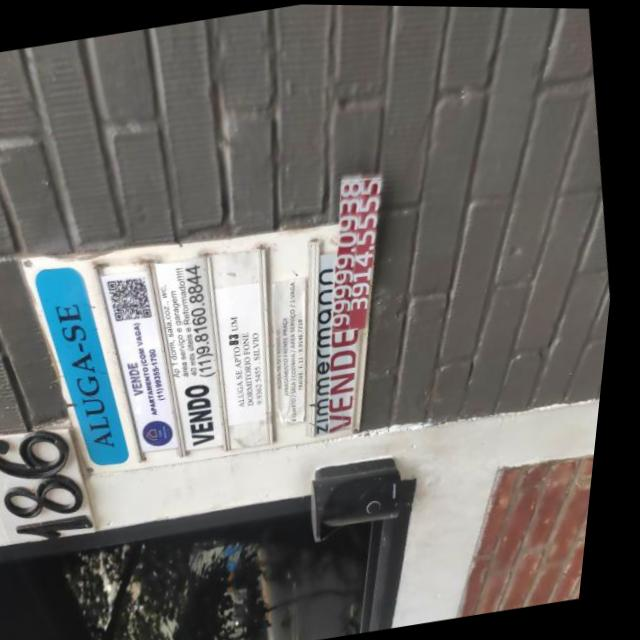qrcode: (111, 275, 162, 323)
